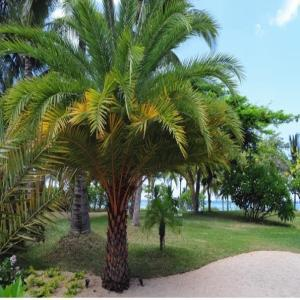palm tree: (0, 0, 248, 292)
